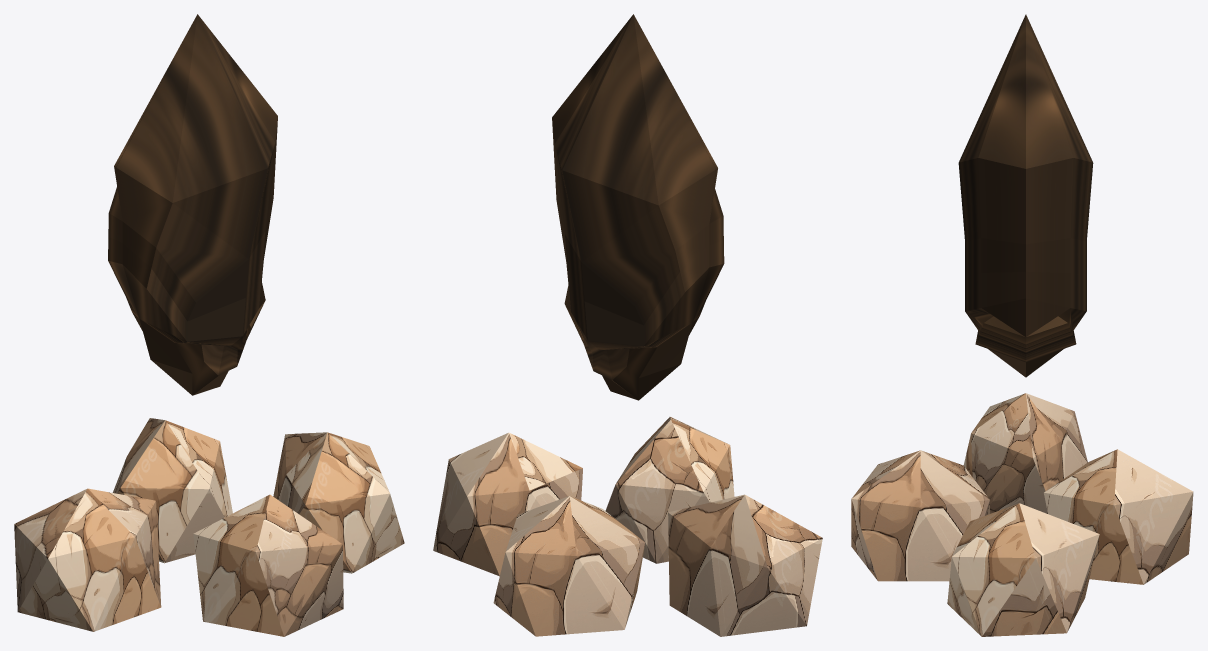
File: cenizas.fbx
The picture shows the model from 3 angles, left to right: view 1: azimuth 30°, elevation 25°; view 2: azimuth 150°, elevation 25°; view 3: azimuth 270°, elevation 25°; orthographic projection. The views are drawn at different scales.
Parts seen in each view (by area): view 1: rocas, Cenizas; view 2: rocas, Cenizas; view 3: rocas, Cenizas.
Part boxes in pixels (bbox=[...]): rocas: bbox=[14, 418, 404, 636]; Cenizas: bbox=[108, 14, 277, 395]; rocas: bbox=[433, 417, 822, 636]; Cenizas: bbox=[552, 14, 724, 400]; rocas: bbox=[851, 393, 1193, 636]; Cenizas: bbox=[958, 14, 1093, 377].
Bounding box in the file's own units: 59.37 × 88.08 × 50.8.
